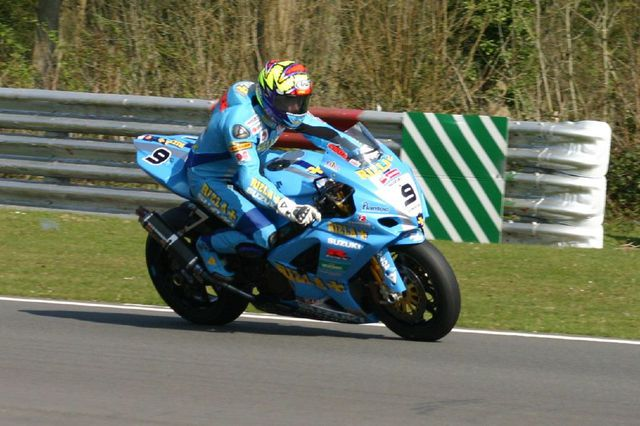helmet: (256, 65, 309, 126)
